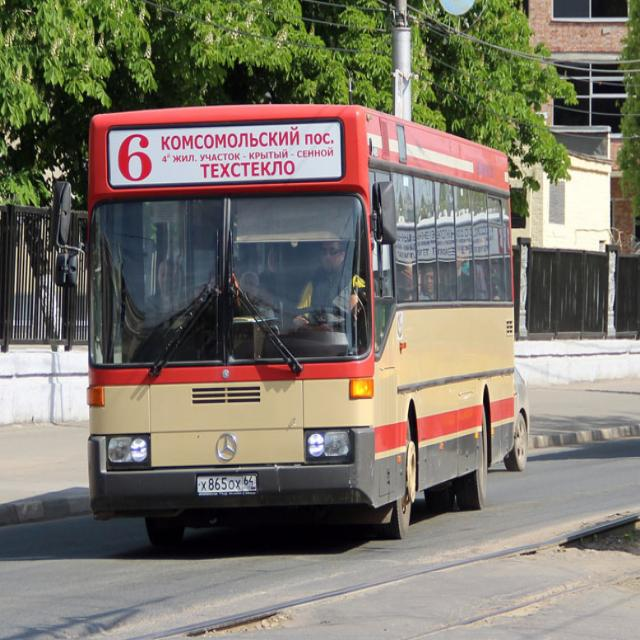number-of-bus: (113, 128, 160, 187)
